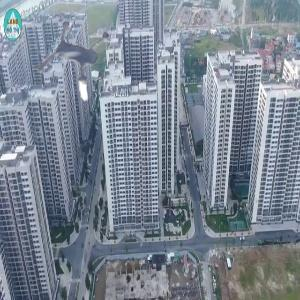drone: (19, 9, 132, 122)
